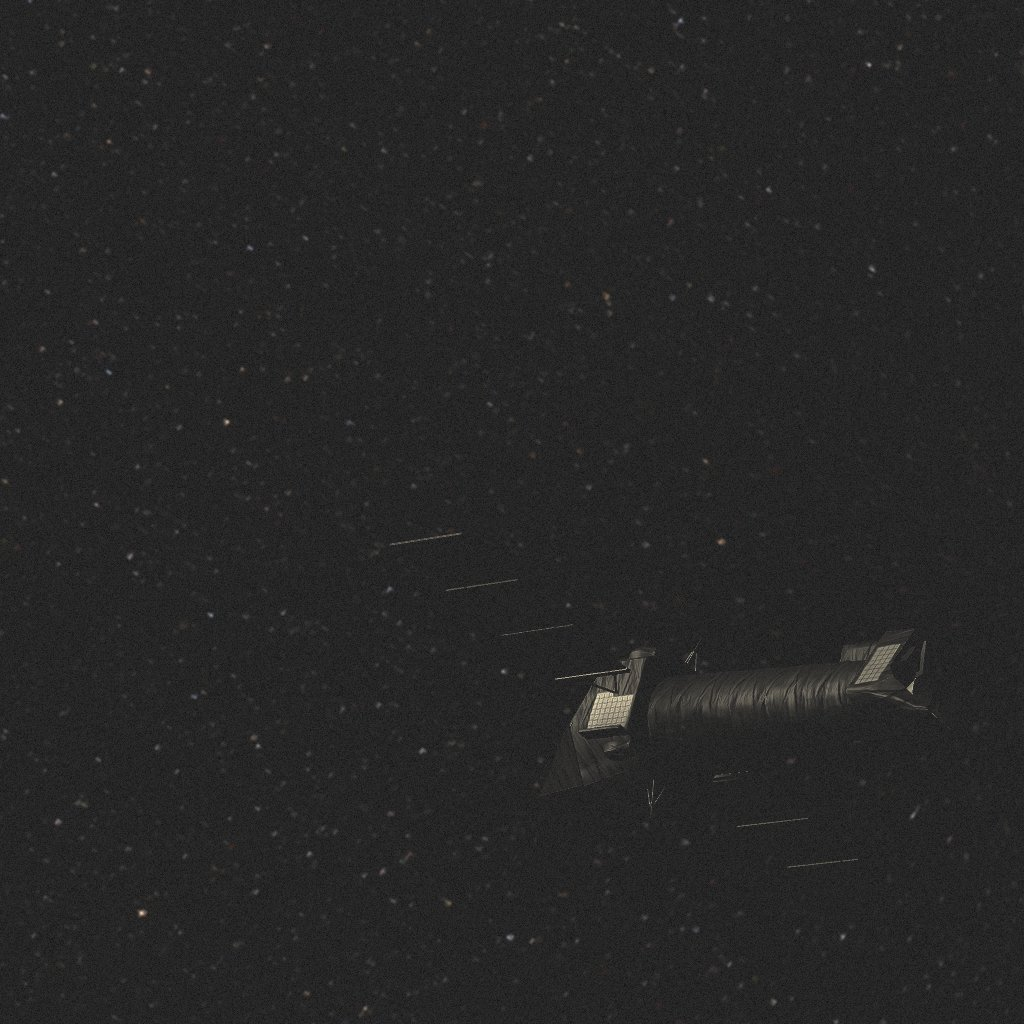xmm_newton: (390, 533, 969, 906)
